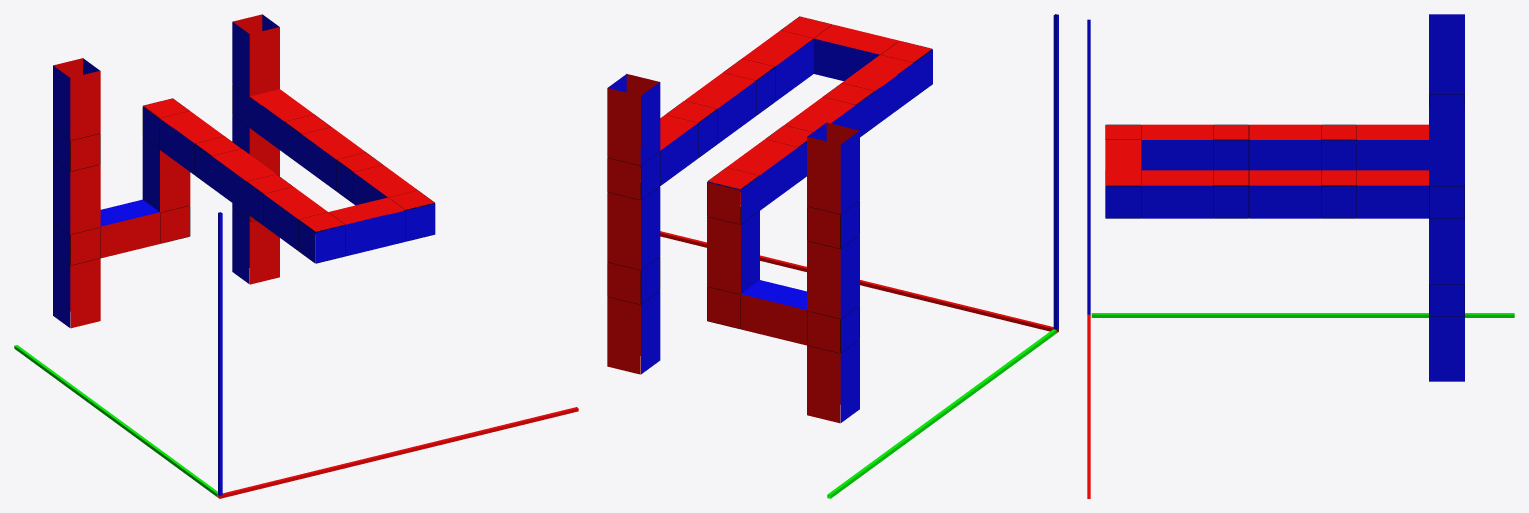
The model's file is cnot.gltf.
The picture shows the model from 3 angles, left to right: view 1: azimuth 30°, elevation 25°; view 2: azimuth 150°, elevation 25°; view 3: azimuth 270°, elevation 25°; orthographic projection. The views are drawn at different scales.
Visible parts, largest first — view 1: edgeK(0, 3, 2):-J, edgeK(0, 3, 1):-J, edgeK(0, 3, 0):-J, edgeI(0, 3, 1):-J, edgeI(1, 0, 2):-J, edgeK(2, 3, 2):-J, edgeK(2, 3, 0):-J, edgeK(1, 3, 1):-J, axisI:-J, edgeJ(1, 1, 2):-I, edgeJ(2, 2, 2):-I, edgeJ(2, 3, 0):-I (+26 smaller); view 2: edgeJ(2, 3, 0):+J, edgeJ(2, 3, 1):+J, edgeJ(2, 3, 2):+J, edgeJ(0, 3, 1):+J, edgeJ(0, 3, 2):+J, edgeJ(1, 3, 1):+J, edgeJ(0, 3, 0):+J, edgeI(0, 3, 1):+J, edgeI(1, 0, 2):+J, edgeJ(2, 3, 2):-I, edgeJ(0, 3, 1):-I, edgeJ(2, 3, 0):-I (+47 smaller); view 3: edgeJ(2, 0, 2):+I, edgeJ(2, 1, 2):+I, edgeJ(0, 3, 2):+I, edgeJ(2, 2, 2):+I, edgeJ(2, 3, 0):+I, edgeJ(2, 3, 1):+I, edgeJ(2, 3, 2):+I, edgeJ(1, 0, 2):+I, edgeJ(1, 1, 2):+I, edgeJ(1, 2, 2):+I, axisJ:+I, spider(2, 0, 2):+I (+24 smaller).
Boxes of the visible parts, x1,y1,x2,y2 form: edgeK(0, 3, 2):-J: (70, 70, 100, 140); edgeK(0, 3, 1):-J: (70, 164, 100, 234); edgeK(0, 3, 0):-J: (70, 258, 100, 328); edgeI(0, 3, 1):-J: (100, 212, 160, 258); edgeI(1, 0, 2):-J: (345, 210, 405, 256); edgeK(2, 3, 2):-J: (250, 27, 279, 96); edgeK(2, 3, 0):-J: (250, 220, 279, 284); edgeK(1, 3, 1):-J: (160, 150, 190, 212); axisI:-J: (219, 408, 578, 498); edgeJ(1, 1, 2):-I: (211, 157, 246, 212); edgeJ(2, 2, 2):-I: (249, 97, 284, 152); edgeJ(2, 3, 0):-I: (232, 209, 249, 284); edgeJ(2, 3, 0):+J: (607, 297, 640, 374); edgeJ(2, 3, 1):+J: (607, 192, 640, 269); edgeJ(2, 3, 2):+J: (607, 88, 640, 165); edgeJ(0, 3, 1):+J: (807, 241, 840, 318); edgeJ(0, 3, 2):+J: (807, 136, 840, 214); edgeJ(1, 3, 1):+J: (707, 216, 740, 294); edgeJ(0, 3, 0):+J: (807, 345, 840, 423); edgeI(0, 3, 1):+J: (740, 294, 806, 345); edgeI(1, 0, 2):+J: (813, 39, 879, 81); edgeJ(2, 3, 2):-I: (641, 82, 660, 165); edgeJ(0, 3, 1):-I: (840, 235, 859, 318); edgeJ(2, 3, 0):-I: (641, 291, 660, 374); edgeJ(2, 0, 2):+I: (1141, 186, 1213, 218); edgeJ(2, 1, 2):+I: (1249, 186, 1321, 218); edgeJ(0, 3, 2):+I: (1429, 29, 1464, 94); edgeJ(2, 2, 2):+I: (1357, 186, 1428, 218); edgeJ(2, 3, 0):+I: (1429, 316, 1464, 381); edgeJ(2, 3, 1):+I: (1429, 218, 1464, 283); edgeJ(2, 3, 2):+I: (1429, 120, 1464, 185); edgeJ(1, 0, 2):+I: (1141, 140, 1213, 170); edgeJ(1, 1, 2):+I: (1249, 140, 1321, 170); edgeJ(1, 2, 2):+I: (1357, 140, 1428, 170); axisJ:+I: (1091, 314, 1514, 317); spider(2, 0, 2):+I: (1105, 186, 1141, 218).
Size of the model in its own units: 12 by 9.5 by 11.88.
